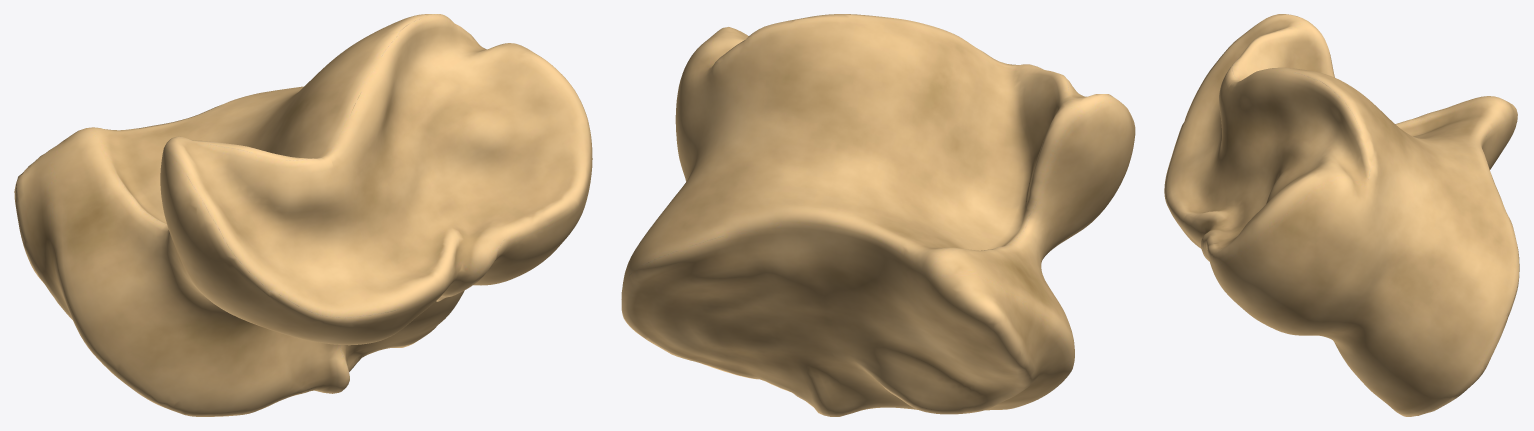
Rendered from Assyq.glb.
The picture shows the model from 3 angles, left to right: view 1: azimuth 30°, elevation 25°; view 2: azimuth 150°, elevation 25°; view 3: azimuth 270°, elevation 25°; orthographic projection. The views are drawn at different scales.
Parts seen in each view (by area): view 1: asyq+rem_0; view 2: asyq+rem_0; view 3: asyq+rem_0.
Part boxes in pixels (bbox=[...]): asyq+rem_0: bbox=[14, 14, 592, 416]; asyq+rem_0: bbox=[621, 14, 1135, 416]; asyq+rem_0: bbox=[1164, 14, 1519, 416].
Bounding box in the file's own units: 0.5181 × 0.4195 × 0.4154.
Materials: 1 (1 with a texture image).
